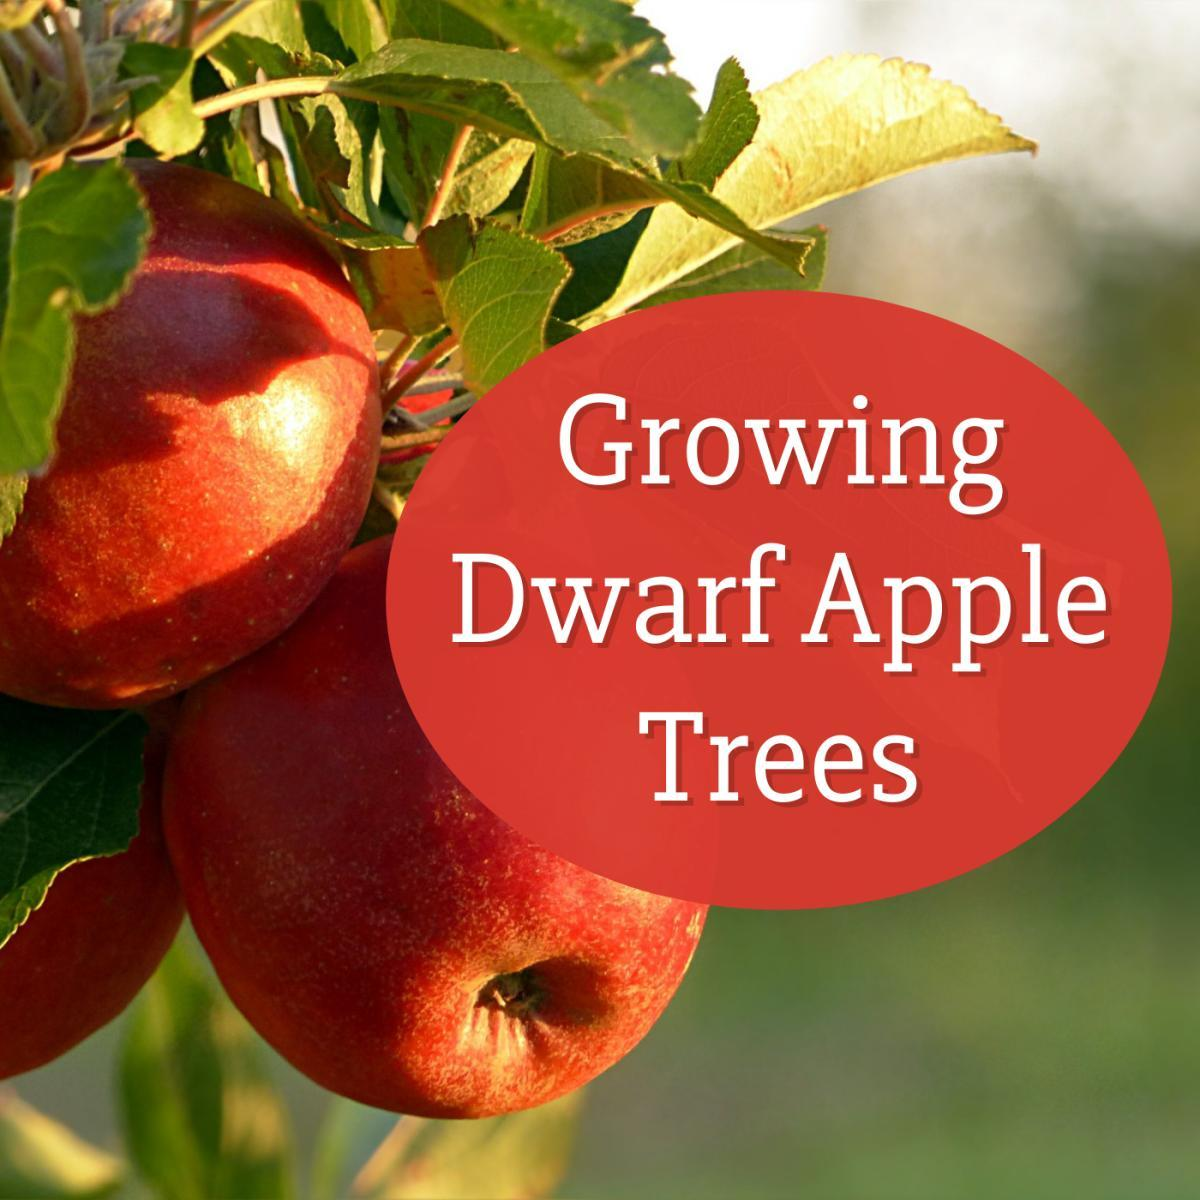apple: (168, 540, 726, 1110), (1, 182, 384, 709)
